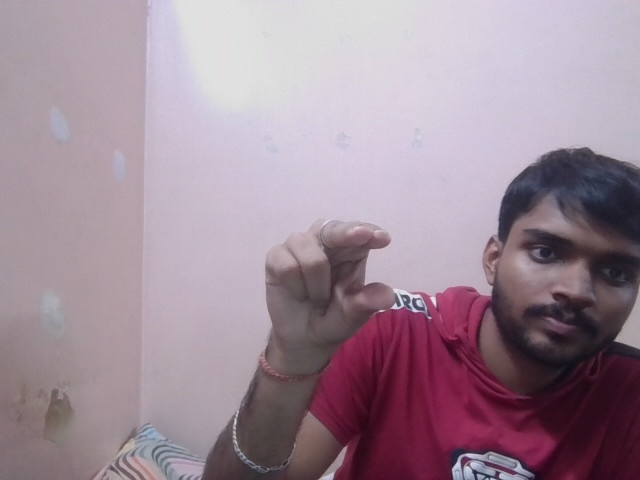No: (261, 197, 400, 345)
